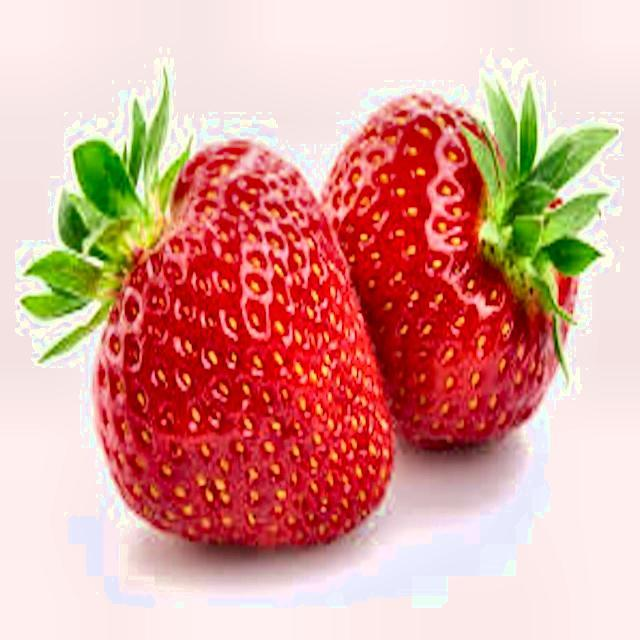strawberry: (22, 75, 392, 546), (322, 84, 618, 448)
